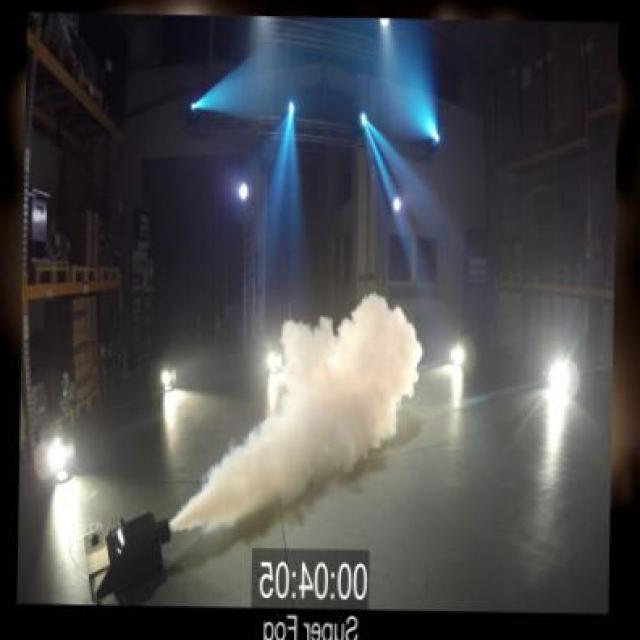fire: (195, 289, 428, 538)
